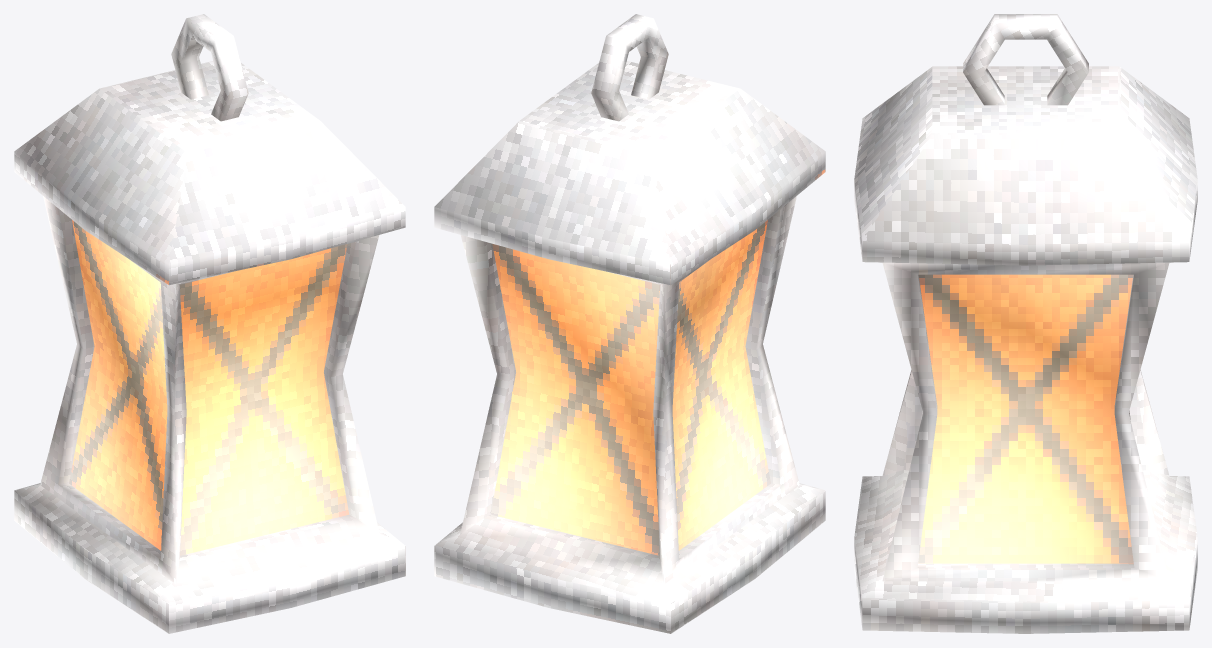
Rendered from lamp.glb.
The picture shows the model from 3 angles, left to right: view 1: azimuth 30°, elevation 25°; view 2: azimuth 150°, elevation 25°; view 3: azimuth 270°, elevation 25°; orthographic projection. The views are drawn at different scales.
Parts seen in each view (by area): view 1: Lamp; view 2: Lamp; view 3: Lamp.
Part boxes in pixels (x1,y1,x2,y2): Lamp: [14, 14, 405, 633]; Lamp: [434, 14, 825, 633]; Lamp: [854, 14, 1197, 633].
Size of the model in its own units: 1.15 by 2.3 by 1.3.
